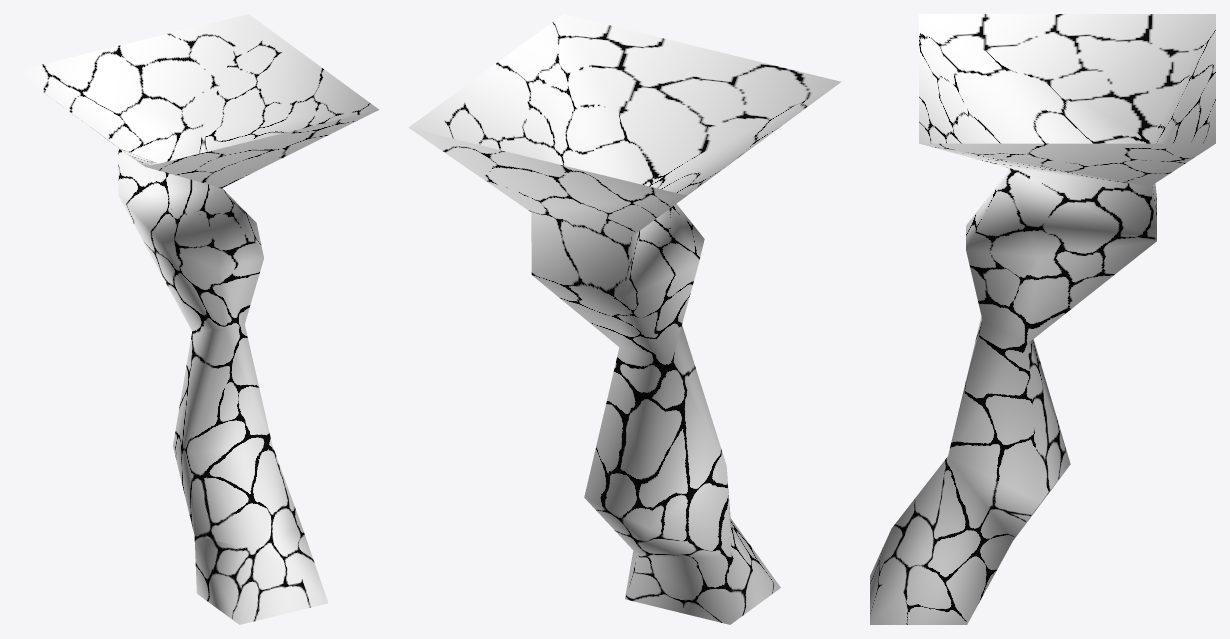
The model's file is Stone_02_02.fbx.
3 renders of one model, left to right at view 1: azimuth 30°, elevation 25°; view 2: azimuth 150°, elevation 25°; view 3: azimuth 270°, elevation 25°, orthographic. The views are drawn at different scales.
Parts seen in each view (by area): view 1: Stone_02_02; view 2: Stone_02_02; view 3: Stone_02_02.
Part boxes in pixels (x1,y1,x2,y2): Stone_02_02: (14, 14, 379, 624); Stone_02_02: (408, 14, 841, 624); Stone_02_02: (870, 14, 1215, 624).
Bounding box in the file's own units: 27.24 × 51.11 × 30.72.
